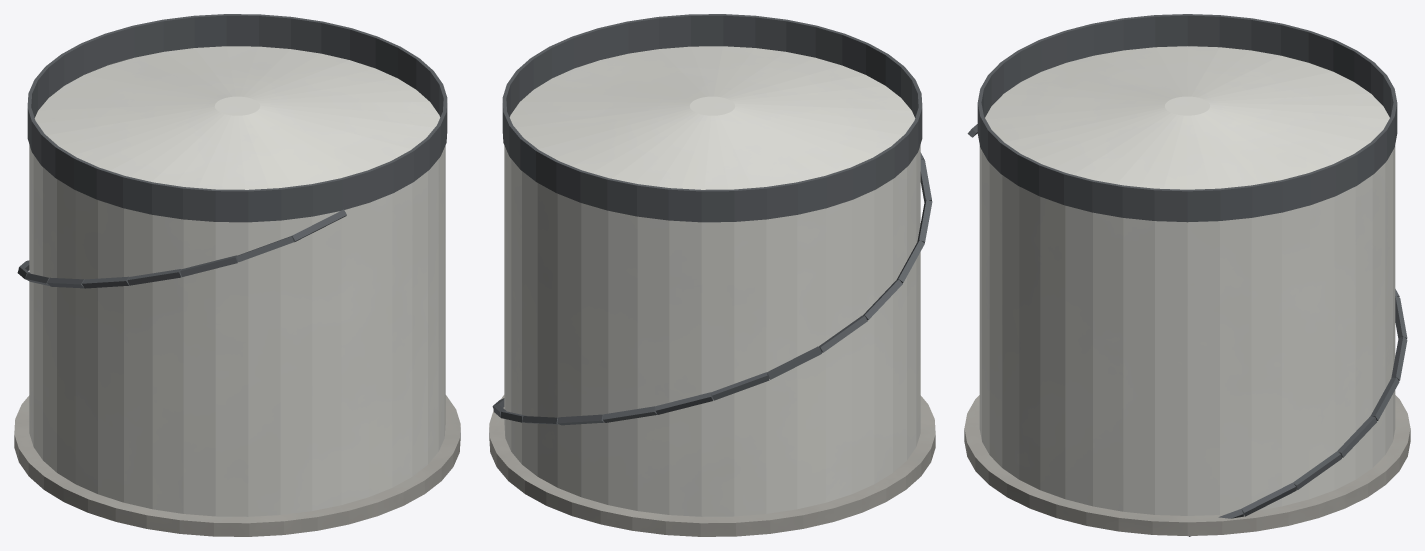
The model's file is pv_nadrz_velka.glb.
3 views of the same model, side by side, from view 1: azimuth 30°, elevation 25°; view 2: azimuth 150°, elevation 25°; view 3: azimuth 270°, elevation 25° (orthographic).
Visible parts, largest first — view 1: dum; view 2: dum; view 3: dum.
Boxes of the visible parts, left/top/right/bottom form: dum: left=14, top=14, right=460, bottom=536; dum: left=489, top=14, right=935, bottom=536; dum: left=964, top=14, right=1410, bottom=536.
Size of the model in its own units: 11.77 by 9.99 by 11.77.
Materials: 1 (1 with a texture image).
